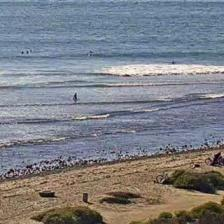surfer: (90, 51, 94, 56), (30, 50, 37, 52), (171, 62, 176, 64), (21, 51, 24, 54), (26, 51, 28, 54)
